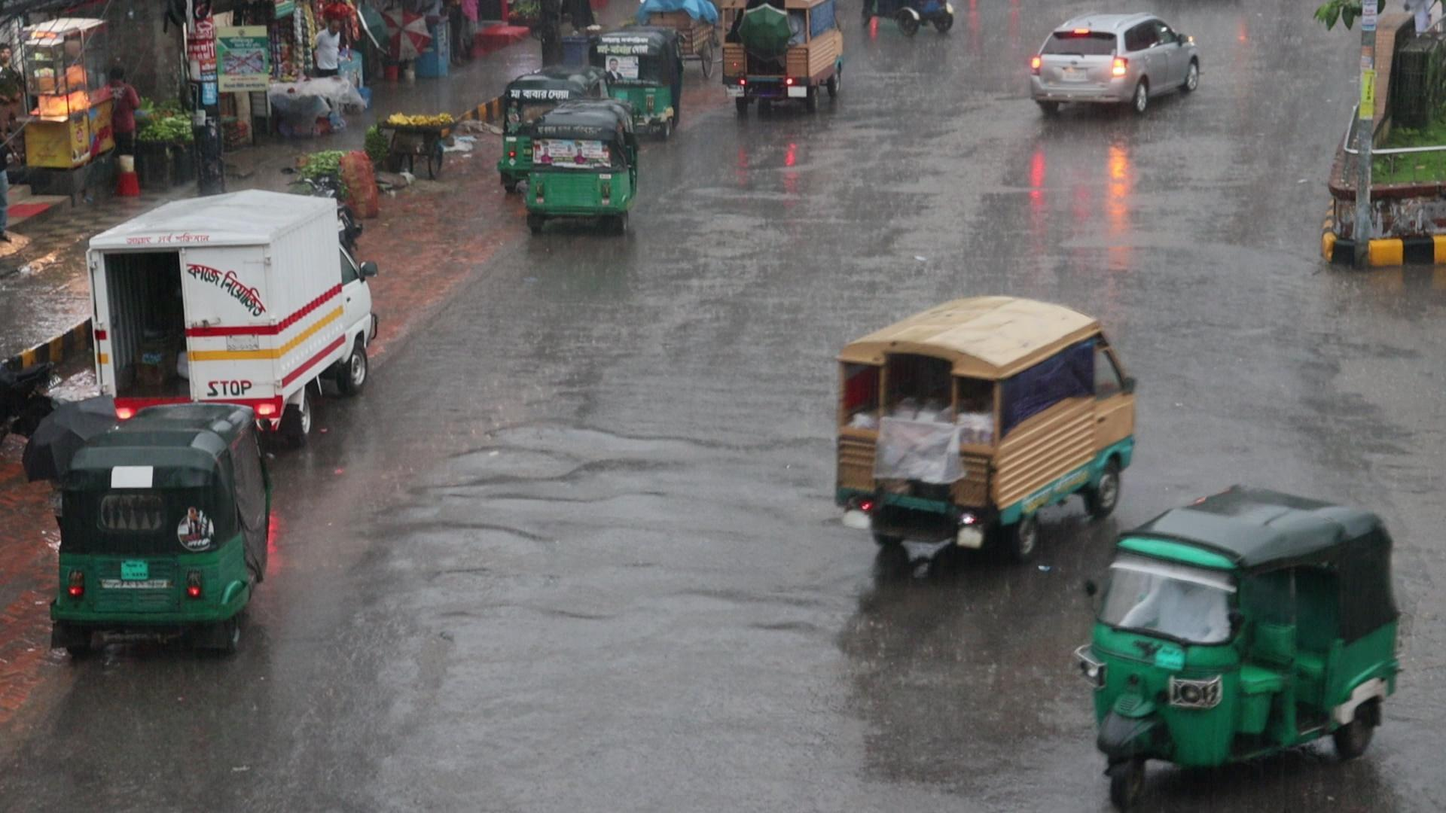Car: (1022, 10, 1200, 133)
Truck: (828, 292, 1139, 571)
